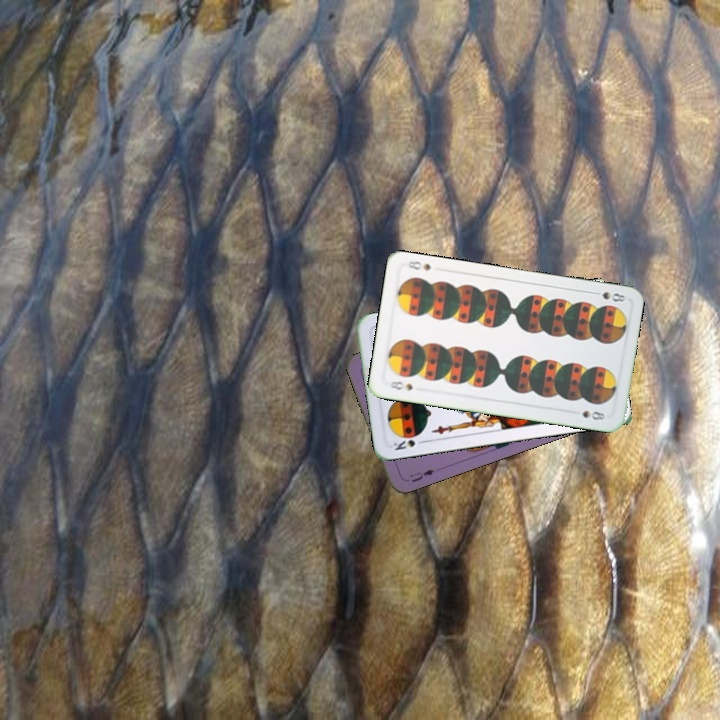EU: (406, 465, 437, 485)
S8: (588, 288, 627, 304), (384, 377, 416, 393)
SK: (389, 431, 429, 453)
